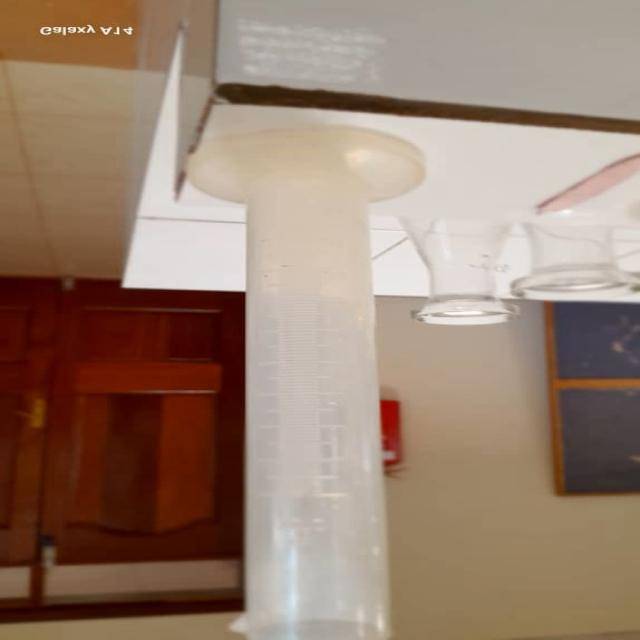Measuring Cylinder: (215, 137, 416, 632)
